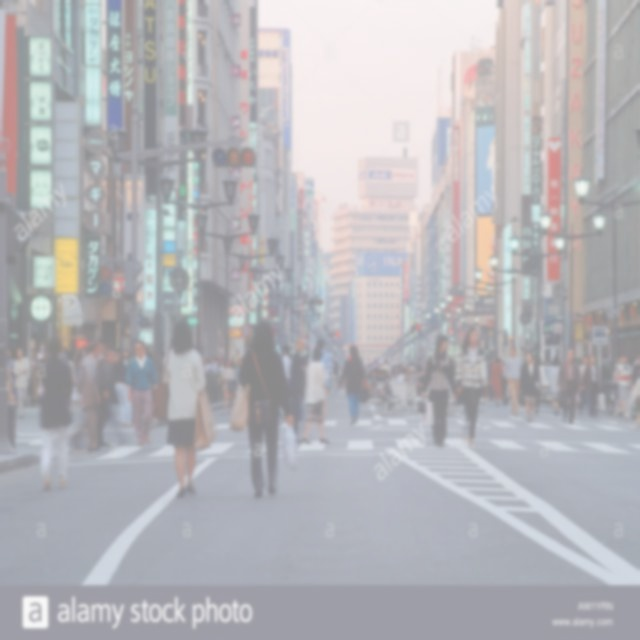pessoa: (152, 318, 220, 500), (237, 320, 296, 499), (36, 333, 76, 493), (414, 334, 464, 449), (452, 328, 489, 448), (124, 338, 159, 448), (300, 346, 332, 445), (77, 341, 103, 454), (555, 347, 583, 425), (340, 344, 366, 426), (310, 338, 333, 426), (288, 351, 309, 444), (516, 349, 541, 424), (611, 354, 635, 421), (579, 354, 601, 418), (13, 346, 32, 420), (503, 346, 523, 416), (114, 360, 134, 428), (278, 343, 294, 421), (217, 358, 237, 414), (533, 352, 550, 416), (598, 352, 616, 409), (546, 355, 562, 417), (577, 353, 592, 416), (66, 352, 82, 409), (487, 356, 504, 406), (6, 363, 16, 447), (5, 346, 18, 409), (629, 363, 640, 432), (367, 378, 399, 401), (414, 366, 430, 409), (68, 420, 88, 450), (404, 366, 418, 407), (111, 416, 130, 446), (119, 348, 132, 386), (74, 348, 86, 388), (95, 336, 108, 371), (486, 356, 494, 403), (105, 364, 116, 394), (103, 348, 122, 363), (332, 360, 340, 394), (370, 367, 386, 384), (154, 352, 162, 380), (501, 375, 508, 407), (207, 356, 219, 374), (394, 368, 407, 383), (376, 368, 392, 380), (449, 394, 462, 408), (391, 364, 403, 379), (376, 358, 392, 369), (38, 340, 48, 357), (144, 345, 155, 358), (338, 366, 344, 389), (480, 390, 488, 407), (202, 357, 210, 373), (38, 378, 46, 394), (150, 416, 159, 430), (218, 358, 225, 374), (108, 394, 119, 404), (104, 406, 114, 416), (369, 368, 376, 382), (410, 362, 418, 374), (128, 351, 138, 360), (634, 352, 640, 366), (626, 356, 634, 366), (422, 358, 428, 371), (613, 354, 619, 366), (417, 362, 423, 373), (337, 368, 340, 389), (82, 403, 88, 413), (228, 358, 233, 370), (232, 360, 238, 370), (237, 358, 243, 368), (72, 348, 76, 362), (300, 365, 308, 372), (61, 344, 66, 354), (237, 367, 240, 383), (303, 354, 309, 362), (395, 398, 403, 404), (444, 376, 450, 384), (500, 359, 506, 367), (233, 370, 237, 381), (214, 356, 218, 366), (82, 350, 86, 358), (218, 354, 222, 362), (207, 368, 212, 374), (206, 358, 211, 364), (150, 358, 154, 365), (330, 366, 332, 380), (327, 389, 331, 395), (406, 362, 410, 368), (414, 381, 418, 387), (162, 351, 166, 356), (222, 356, 226, 360), (336, 384, 338, 390), (336, 362, 338, 366)
